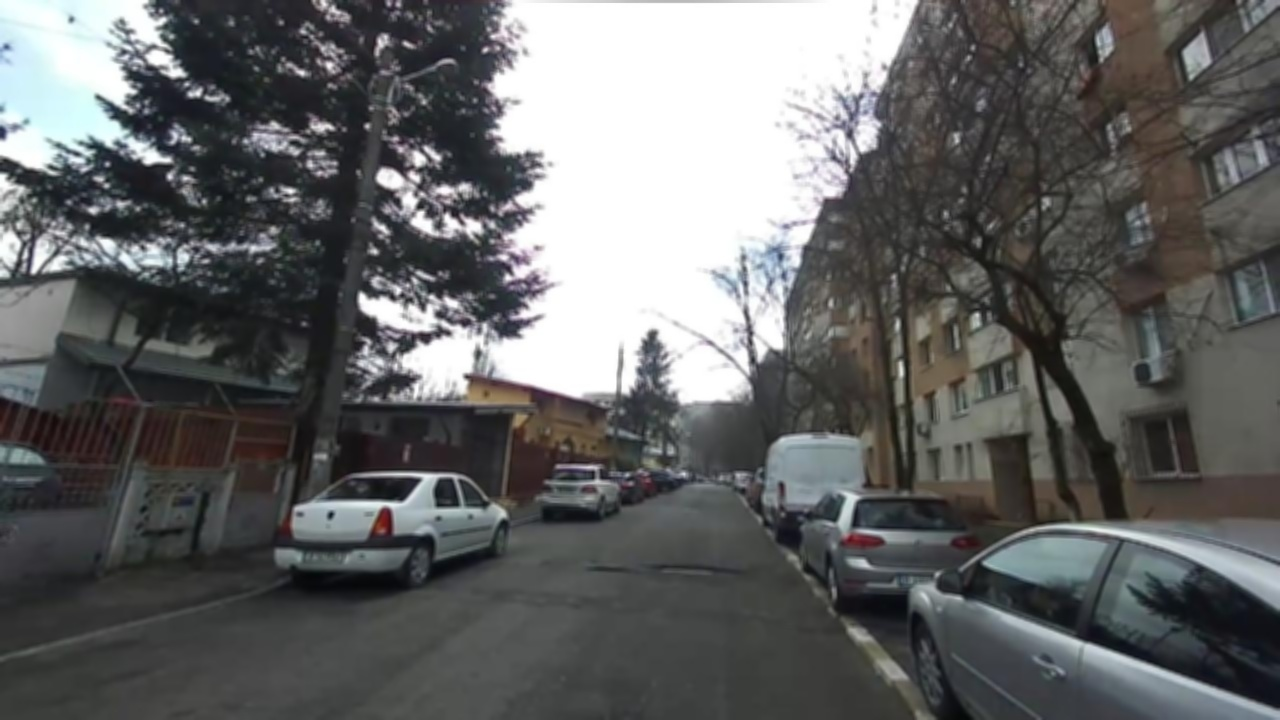pothole: (652, 563, 740, 574), (587, 565, 631, 571)
